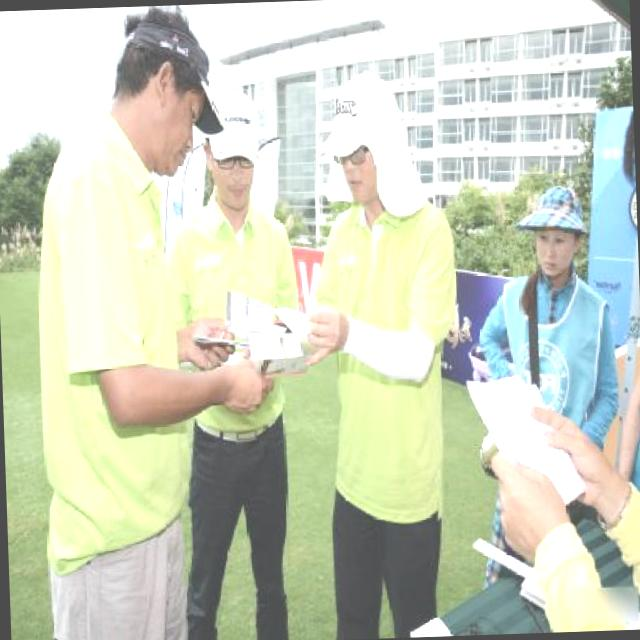Person: (8, 3, 241, 640), (173, 74, 308, 640), (314, 76, 449, 638)
